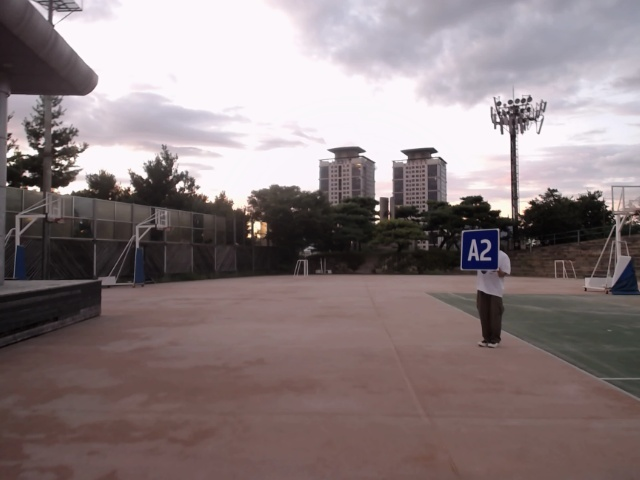delivery_a2: (461, 229, 499, 271)
